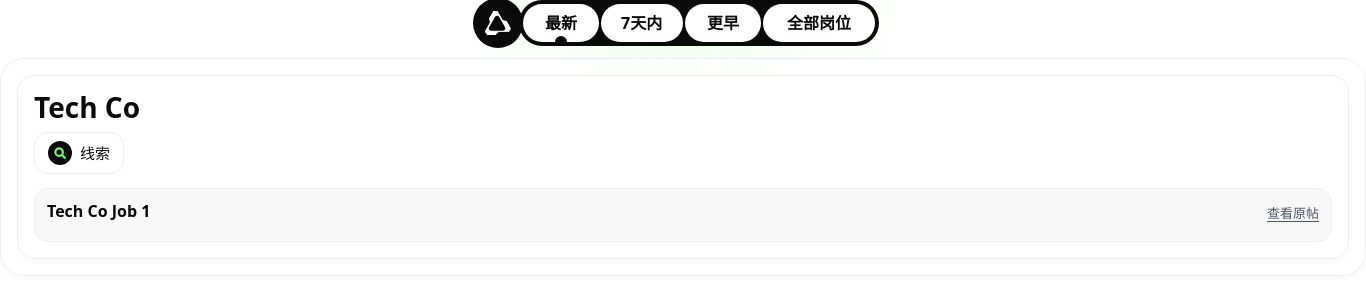
Test case: CompanyFeedTimeline › shows an empty state when the selected category has no jobs
This screenshot has width=1366, height=297.
Click the button "全部岗位" at (819, 23), box [763,4,875,42]
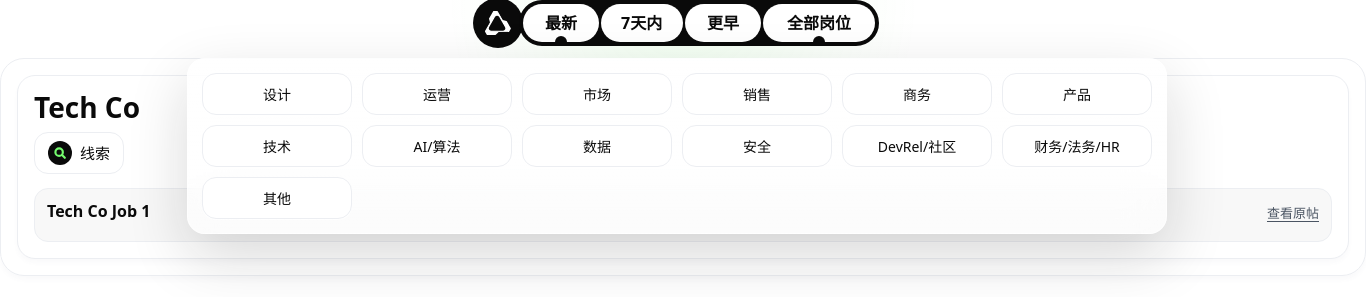
Click the button "设计" at (277, 94), box [202,73,352,115]
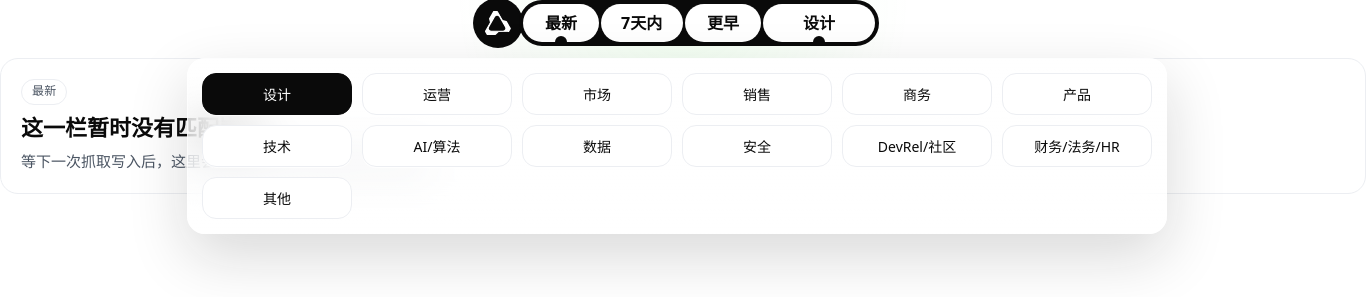
Check: the heading "这一栏暂时没有匹配岗位" is shown, box [21,112,263,142]
Check: the heading "Tech Co" is gone
